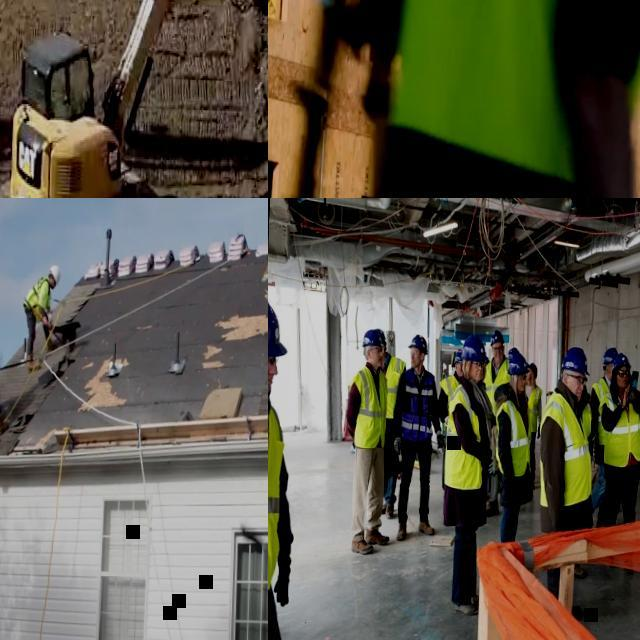helmet: (268, 291, 288, 356), (562, 346, 591, 374), (462, 334, 488, 362), (508, 352, 529, 376), (407, 332, 428, 353), (612, 350, 632, 372), (362, 329, 384, 346), (602, 346, 618, 365), (489, 330, 504, 346), (526, 362, 538, 378), (50, 266, 60, 284), (452, 350, 462, 362), (374, 328, 384, 339), (506, 346, 518, 355)
vest: (376, 0, 640, 198), (536, 390, 595, 508), (444, 384, 486, 491), (268, 401, 286, 595), (596, 389, 640, 468), (348, 364, 388, 448), (493, 399, 534, 476), (402, 367, 436, 442), (483, 357, 509, 416), (383, 354, 406, 418), (436, 374, 459, 436), (590, 378, 612, 442), (22, 276, 51, 318), (526, 386, 542, 434)
